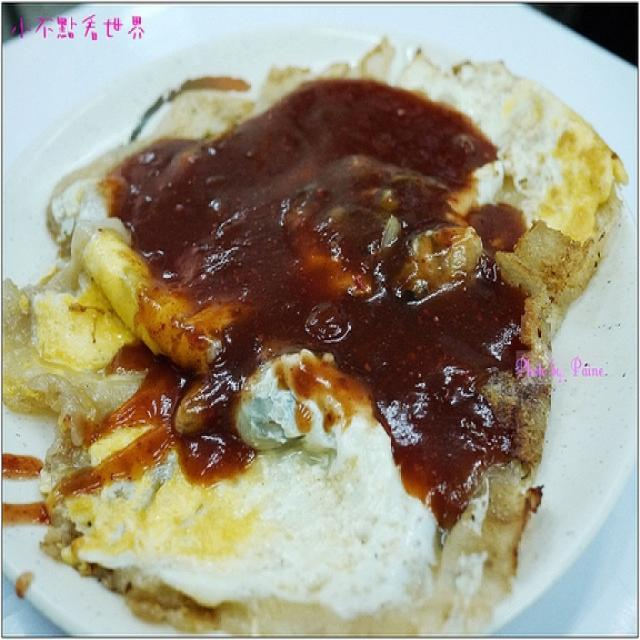熟制海鲜: (1, 8, 631, 631)
